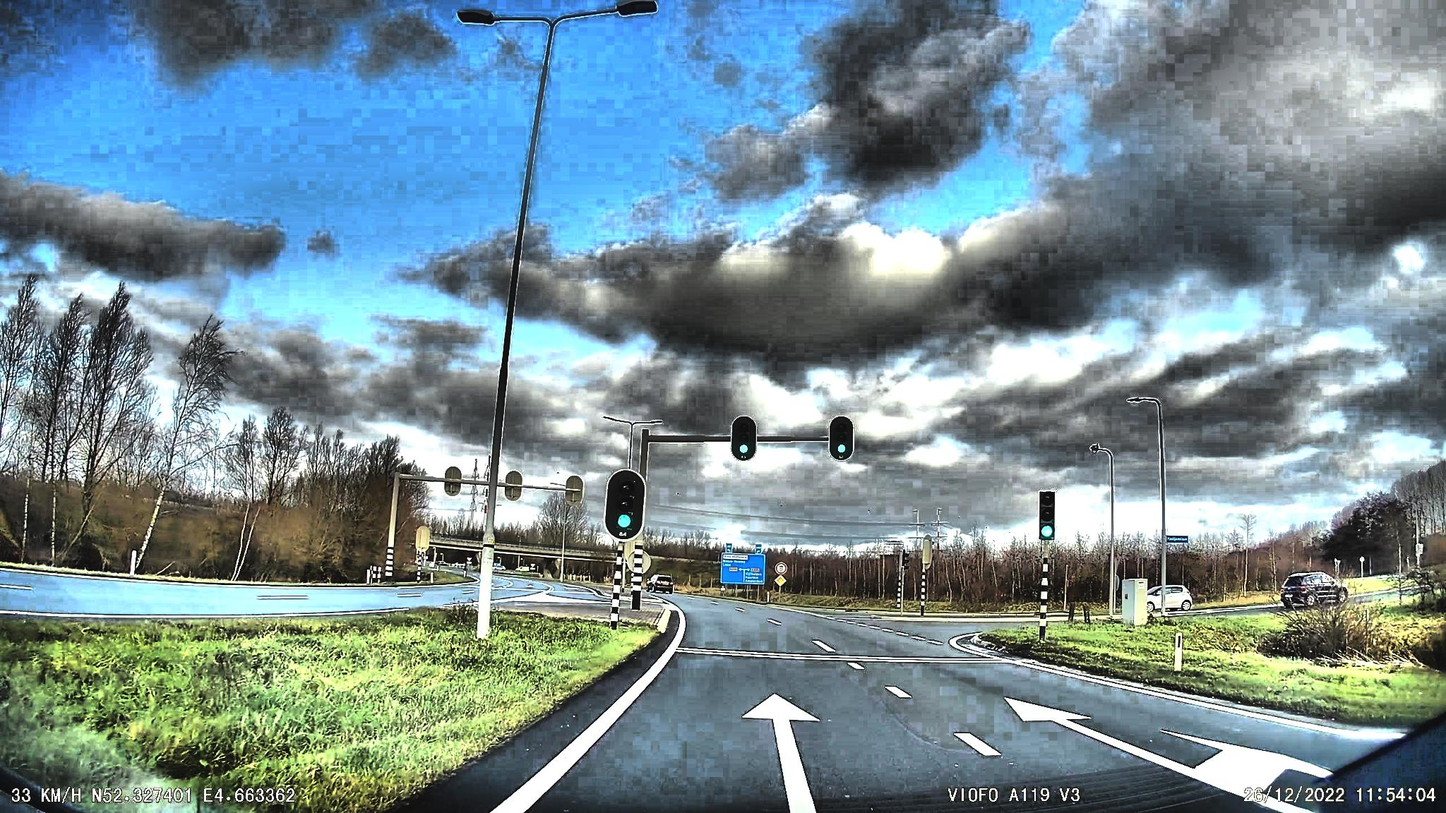Roads: (390, 595, 1446, 813)
